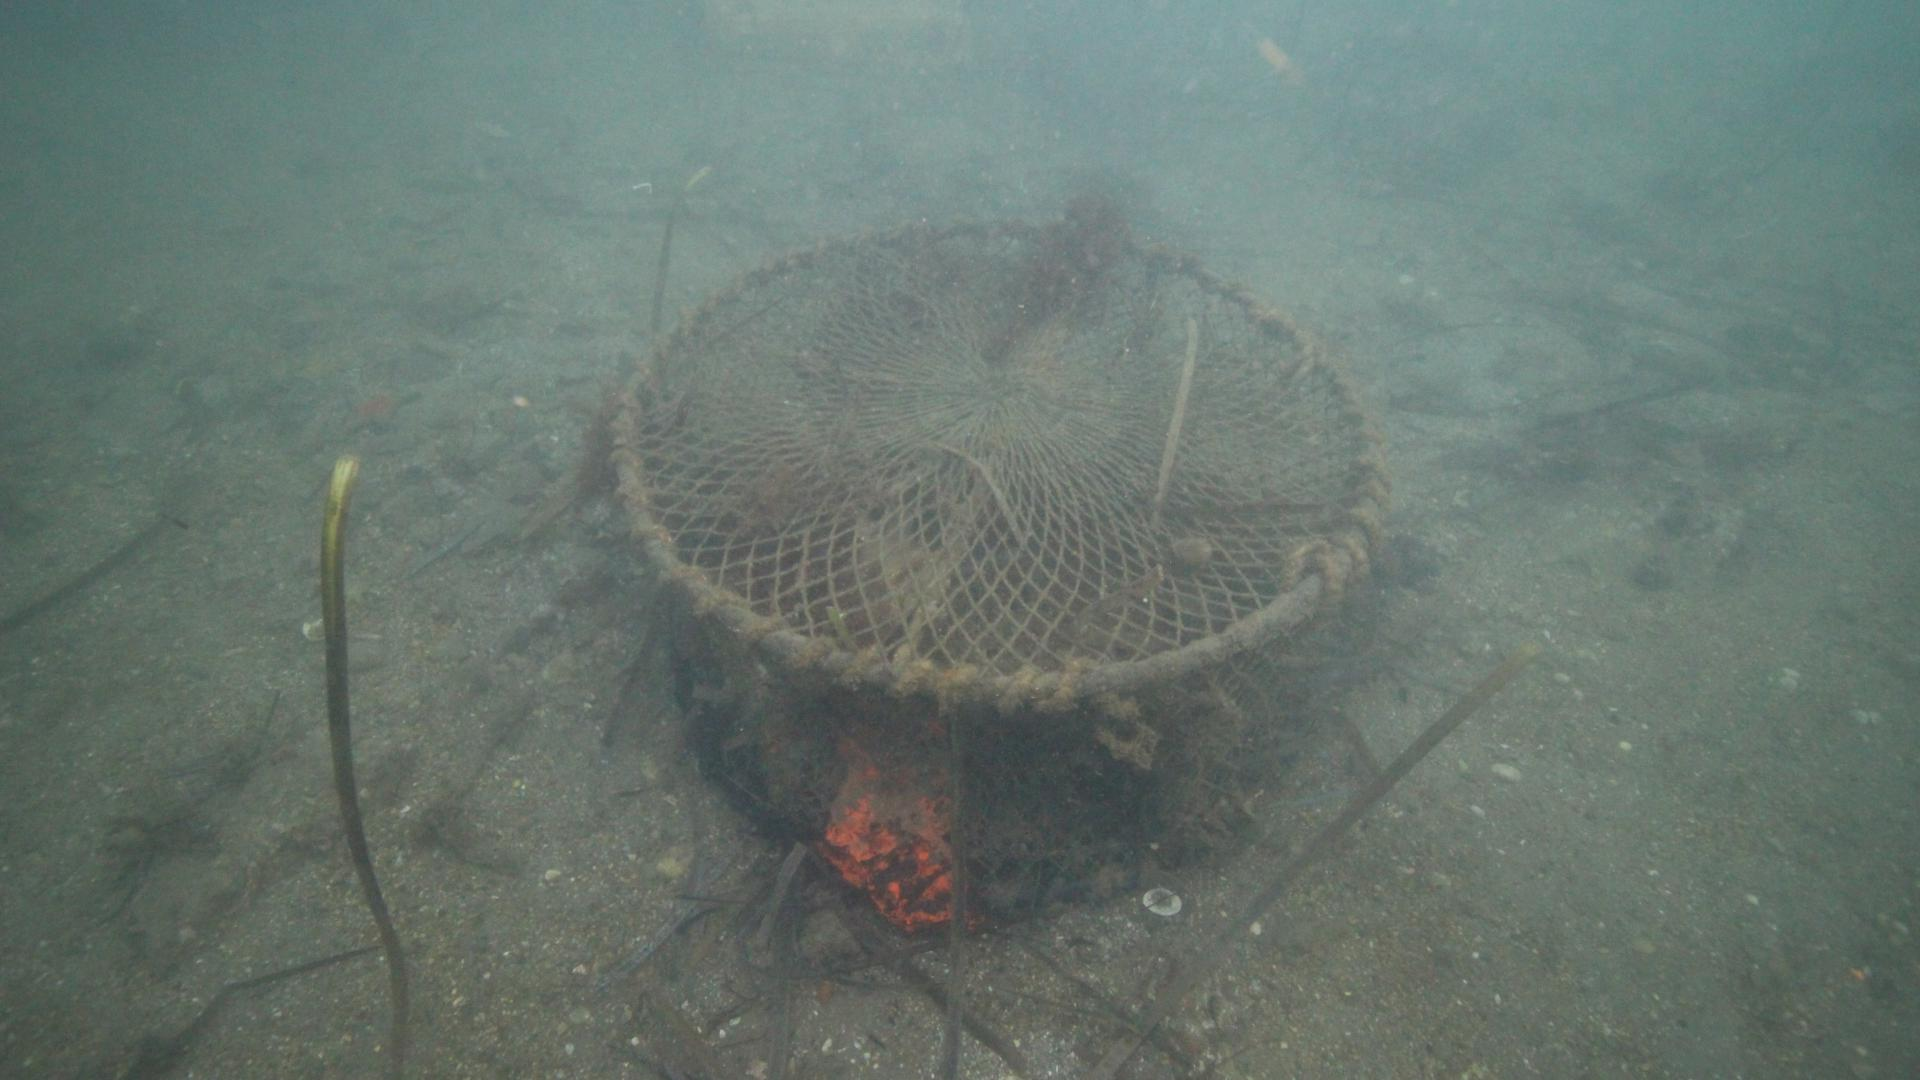circular fish trap: (609, 214, 1393, 916)
